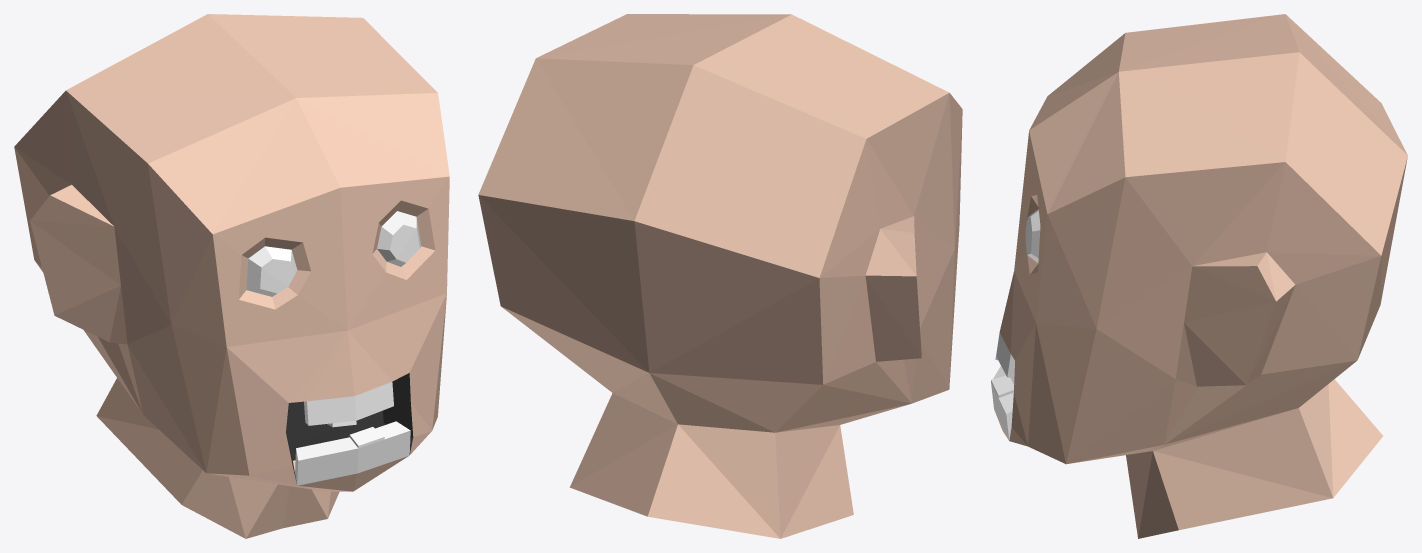
File: ZombieHead.fbx
3 views of the same model, side by side, from view 1: azimuth 30°, elevation 25°; view 2: azimuth 150°, elevation 25°; view 3: azimuth 270°, elevation 25° (orthographic). The views are drawn at different scales.
Visible parts, largest first — view 1: head3; view 2: head3; view 3: head3.
Boxes of the visible parts, <box> form: head3: <box>14,14,449,538</box>; head3: <box>478,14,962,538</box>; head3: <box>991,14,1407,538</box>.
Bounding box in the file's own units: 27.76 × 32.15 × 25.95.
